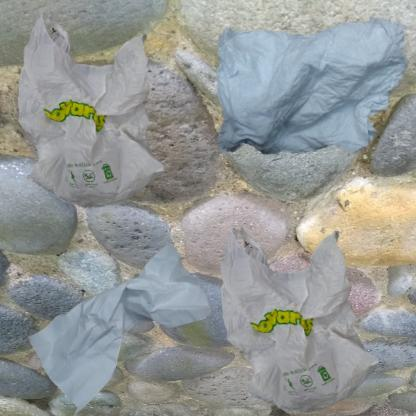bolsa: (213, 213, 389, 416), (10, 10, 177, 216)
papel: (10, 213, 236, 416), (213, 10, 412, 161)
